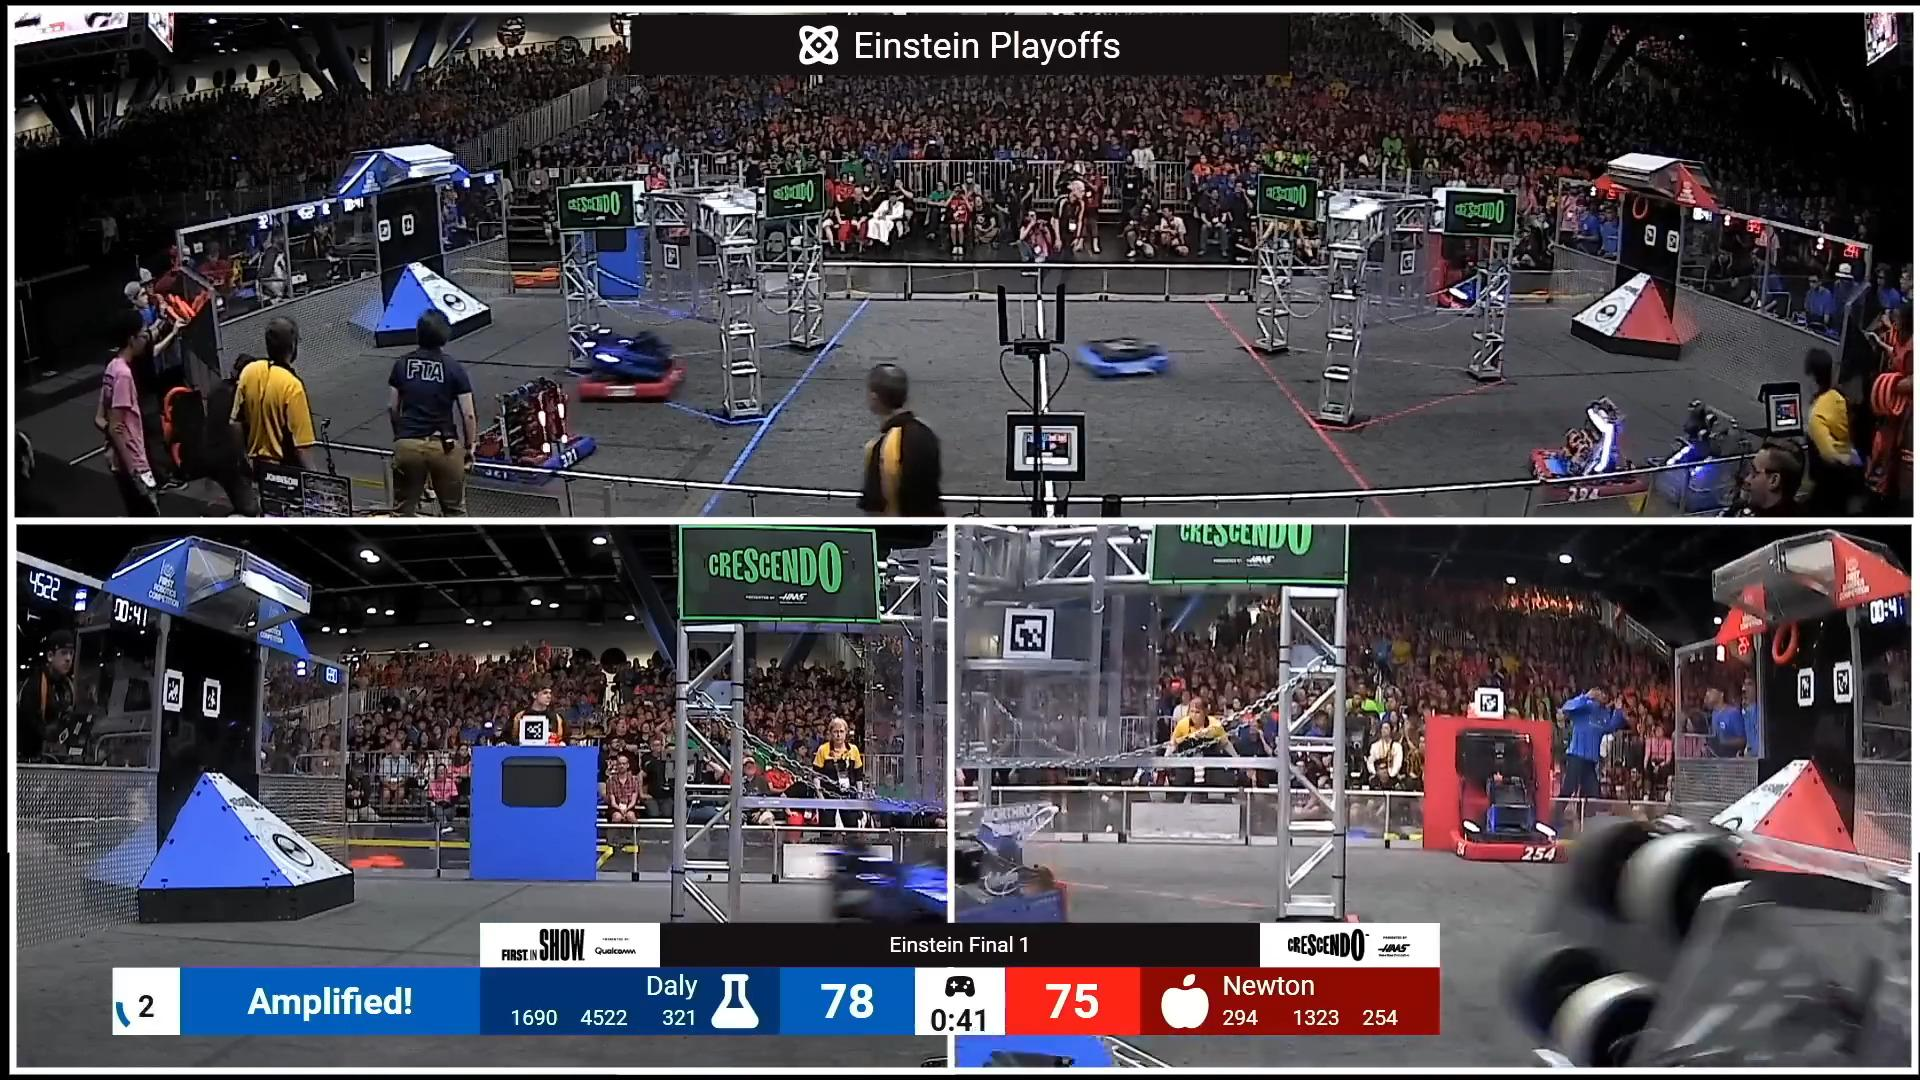blue_idle: (468, 378, 582, 492), (1058, 320, 1183, 389)
blue_intaking: (1652, 394, 1753, 505)
red_amping: (1444, 724, 1565, 870)
red_idle: (562, 306, 687, 414)
